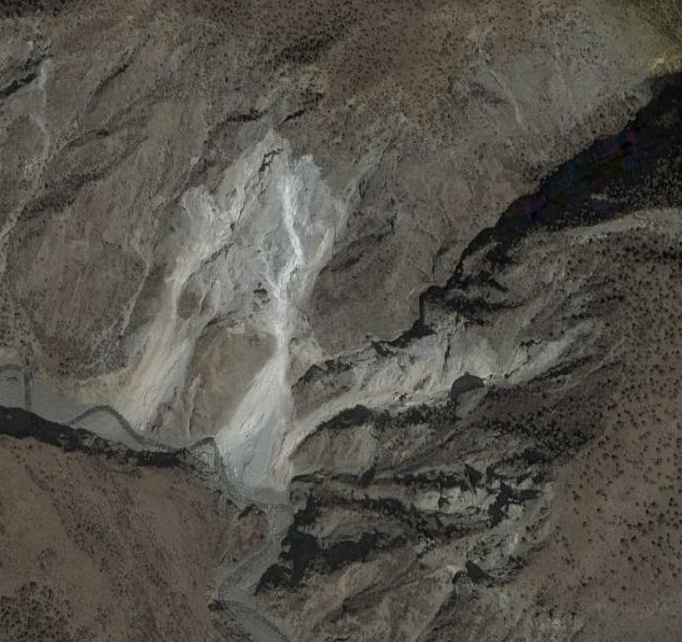slope: (70, 121, 610, 501)
